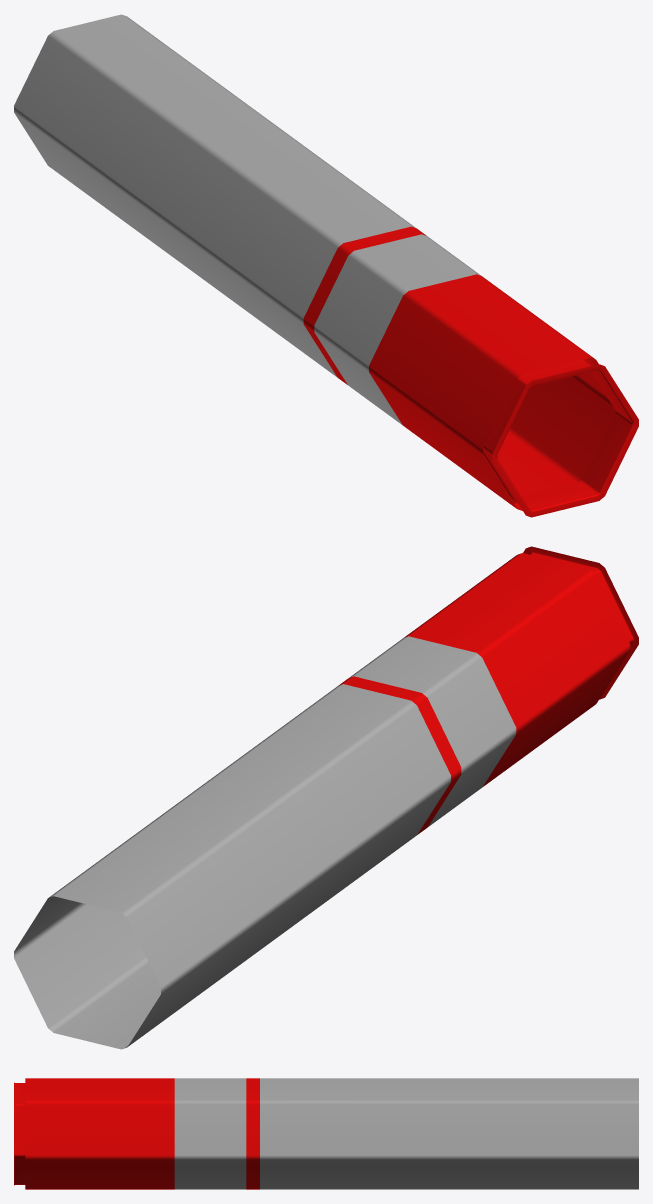
The picture shows the model from 3 angles, top to bottom: view 1: azimuth 30°, elevation 25°; view 2: azimuth 150°, elevation 25°; view 3: azimuth 270°, elevation 25°; orthographic projection. The views are drawn at different scales.
Parts seen in each view (by area): view 1: tube_03, transition_03; view 2: tube_03, transition_03; view 3: tube_03, transition_03.
Boxes of the visible parts, bbox=[...] form: tube_03: bbox=[14, 14, 615, 510]; transition_03: bbox=[483, 358, 638, 517]; tube_03: bbox=[14, 553, 630, 1049]; transition_03: bbox=[523, 546, 638, 699]; tube_03: bbox=[25, 1078, 638, 1189]; transition_03: bbox=[14, 1082, 25, 1185].
Bounding box in the file's own units: 1811 × 1609 × 10187.
